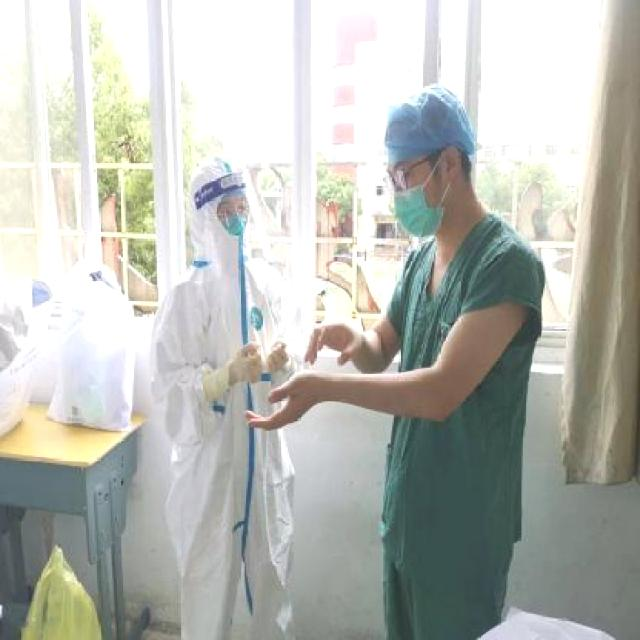face_mask: (391, 159, 446, 246)
glasses: (381, 166, 417, 197)
hand_glove: (229, 342, 263, 386), (266, 340, 289, 375)
hand_noglove: (245, 371, 320, 431), (303, 317, 362, 368)
head_nohelmet: (376, 91, 466, 171), (192, 152, 255, 212)
person: (292, 98, 572, 640), (124, 172, 324, 634)
